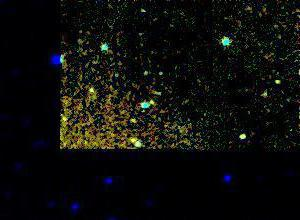star: (228, 119, 258, 149)
